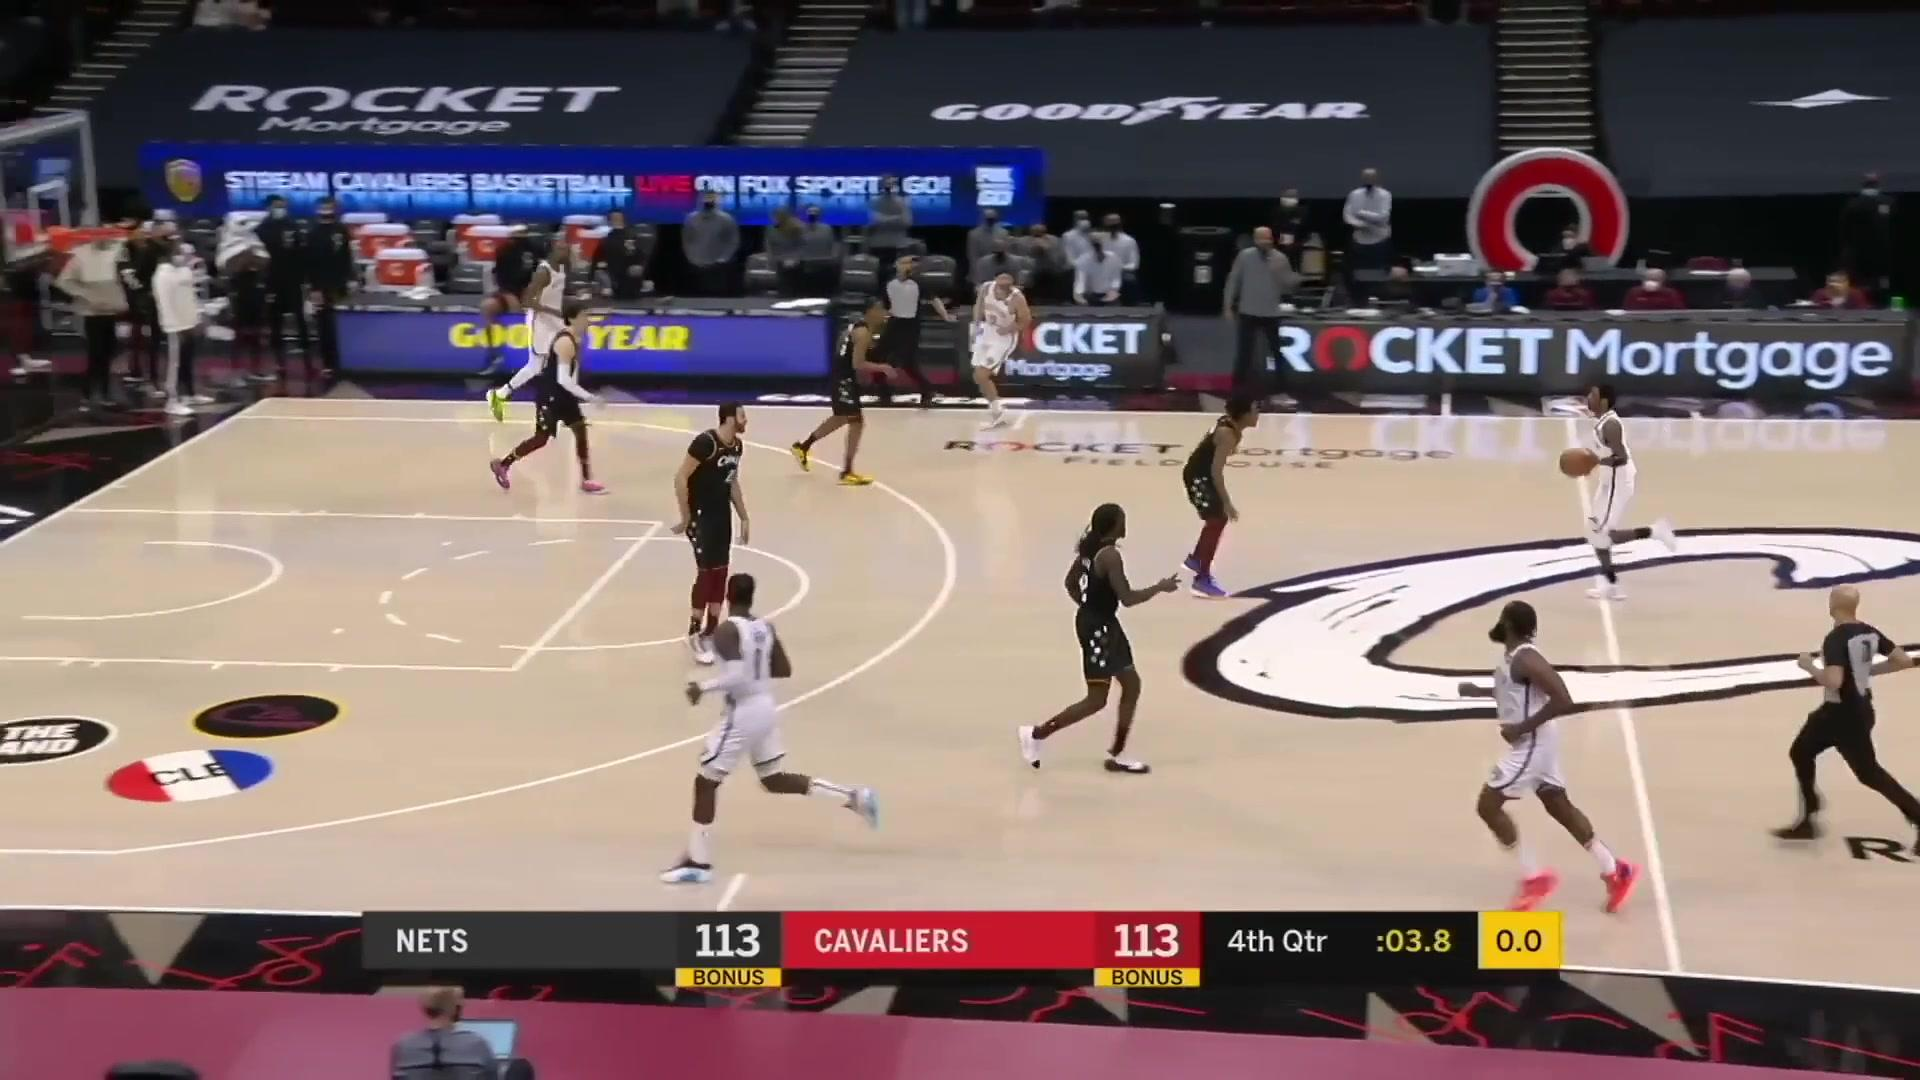no_foul: (458, 223, 637, 495)
